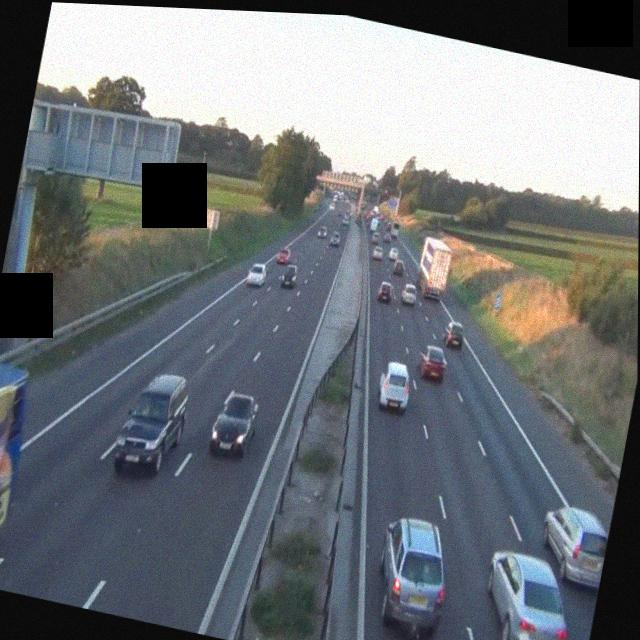car: (367, 513, 457, 639), (109, 363, 193, 485), (475, 546, 581, 640), (535, 500, 612, 589), (208, 387, 261, 461), (375, 357, 414, 413), (415, 341, 450, 383), (440, 319, 467, 351), (245, 258, 269, 286), (279, 261, 299, 289), (400, 275, 420, 300), (376, 278, 394, 303), (275, 244, 292, 265), (389, 257, 404, 276), (372, 244, 384, 262), (389, 248, 401, 265), (329, 231, 341, 247), (316, 224, 328, 239), (339, 216, 350, 229)
truck: (0, 358, 36, 591), (413, 232, 456, 301)
